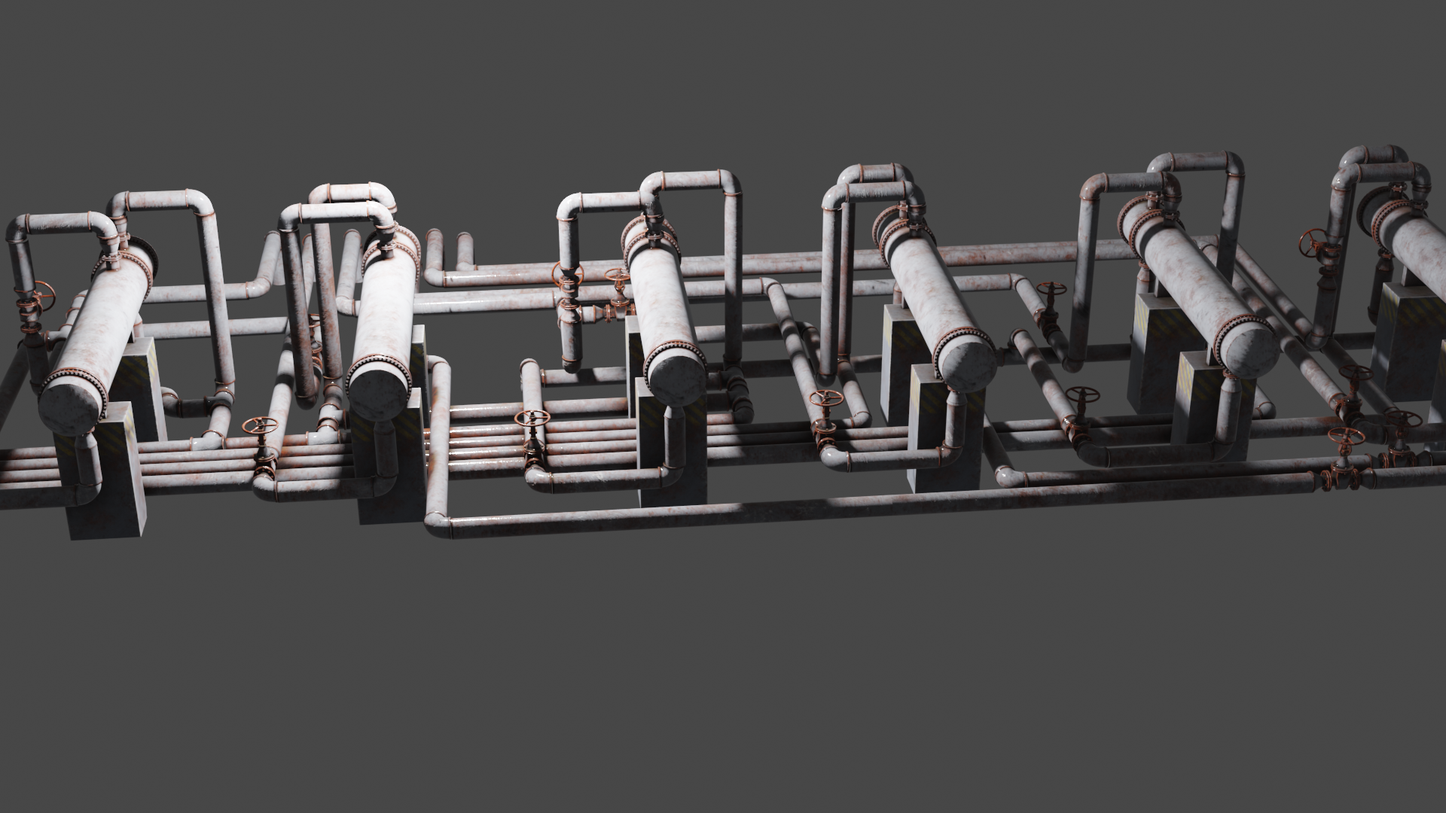HE_1: (1359, 191, 1446, 304)
HE_2: (1114, 194, 1281, 375)
HE_3: (871, 208, 994, 390)
HE_4: (620, 210, 708, 401)
HE_5: (344, 219, 422, 419)
HE_6: (35, 235, 159, 436)
